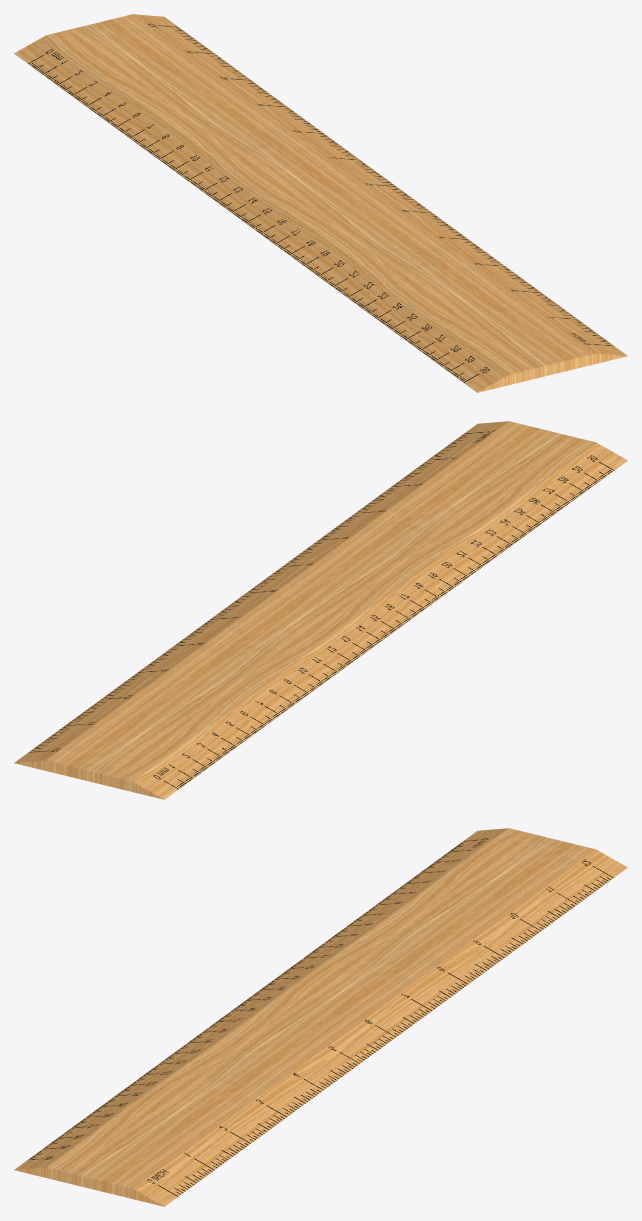
Rendered from oRuler.fbx.
The picture shows the model from 3 angles, top to bottom: view 1: azimuth 30°, elevation 25°; view 2: azimuth 150°, elevation 25°; view 3: azimuth 330°, elevation 25°; orthographic projection.
Parts seen in each view (by area): view 1: Ruler001; view 2: Ruler001; view 3: Ruler001.
Boxes of the visible parts, x1,y1,x2,y2 form: Ruler001: (14,14,627,392); Ruler001: (14,421,627,799); Ruler001: (14,828,627,1206).
Bounding box in the file's own units: 2.36 × 0.1598 × 12.6.
Materials: 1 (1 with a texture image).
